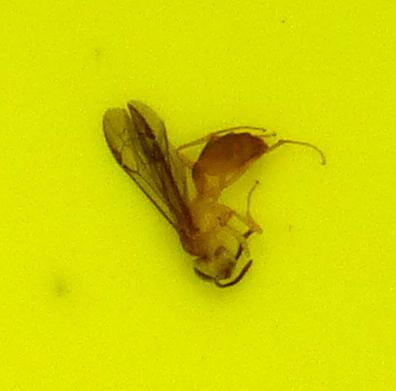Hymenoptera: (100, 100, 296, 291)
